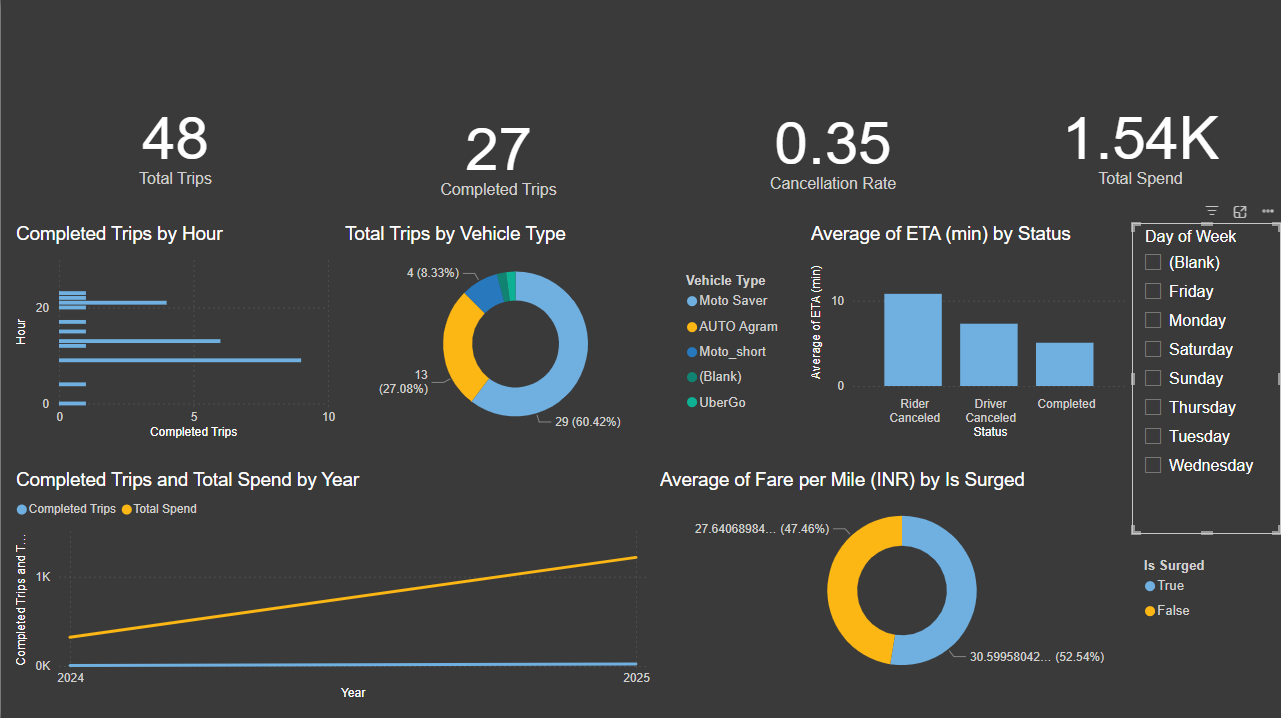

The page's visual inventory and layout, read from the dashboard file:
{"tool":"powerbi","page":{"name":"Page 1","canvas":[1280,720],"ordinal":0},"visuals":[{"type":"card","fields":{"Values":["Trips.Total Trips"]},"box":[9.9,59.2,329,163.4],"z":0},{"type":"card","fields":{"Values":["Trips.Completed Trips"]},"box":[330.1,82.3,334.5,140.4],"z":1000},{"type":"card","fields":{"Values":["Trips.Cancellation Rate"]},"box":[664.7,82.3,334.5,128.3],"z":2000},{"type":"card","fields":{"Values":["Trips.Total Spend"]},"box":[999.2,71.3,280.8,139.3],"z":3000},{"type":"clusteredBarChart","fields":{"Category":["Trips.Hour"],"Y":["Trips.Completed Trips"]},"box":[9.9,222.7,329,221.6],"z":4000},{"type":"lineChart","fields":{"Category":["Trips.Month.Variation.Date Hierarchy.Year","Trips.Month.Variation.Date Hierarchy.Quarter","Trips.Month.Variation.Date Hierarchy.Month","Trips.Month.Variation.Date Hierarchy.Day"],"Y":["Trips.Completed Trips","Trips.Total Spend"]},"box":[9.9,469.4,643.8,235.8],"z":5000},{"type":"donutChart","fields":{"Category":["Trips.Vehicle Type"],"Y":["Trips.Total Trips"]},"box":[338.9,222.7,453,221.6],"z":6000},{"type":"clusteredColumnChart","fields":{"Category":["Trips.Status"],"Y":["Avg(Trips.ETA (min))"]},"box":[805.1,222.7,325.8,221.6],"z":7000},{"type":"donutChart","fields":{"Category":["Trips.Is Surged"],"Y":["Avg(Trips.Fare per Mile (INR))"]},"box":[653.7,469.4,574.7,221.6],"z":8000},{"type":"slicer","fields":{"Values":["Trips.Day of Week"]},"box":[1130.8,222.7,149.2,311.5],"z":9000}]}

Visuals, with their boxes in screenshot pixels (x1, y1, x2, y2), scaled from the page's 1280x720 canvas onto the 1281x718 screenshot:
card - Trips.Total Trips: pyautogui.locateOnScreen(10, 59, 339, 222)
card - Trips.Completed Trips: pyautogui.locateOnScreen(330, 82, 665, 222)
card - Trips.Cancellation Rate: pyautogui.locateOnScreen(665, 82, 1000, 210)
card - Trips.Total Spend: pyautogui.locateOnScreen(1000, 71, 1280, 210)
clusteredBarChart - Trips.Hour x Trips.Completed Trips: pyautogui.locateOnScreen(10, 222, 339, 443)
lineChart - Trips.Month.Variation.Date Hierarchy.Year x Trips.Month.Variation.Date Hierarchy.Quarter: pyautogui.locateOnScreen(10, 468, 654, 703)
donutChart - Trips.Vehicle Type x Trips.Total Trips: pyautogui.locateOnScreen(339, 222, 793, 443)
clusteredColumnChart - Trips.Status x Avg(Trips.ETA (min)): pyautogui.locateOnScreen(806, 222, 1132, 443)
donutChart - Trips.Is Surged x Avg(Trips.Fare per Mile (INR)): pyautogui.locateOnScreen(654, 468, 1229, 689)
slicer - Trips.Day of Week: pyautogui.locateOnScreen(1132, 222, 1280, 533)
